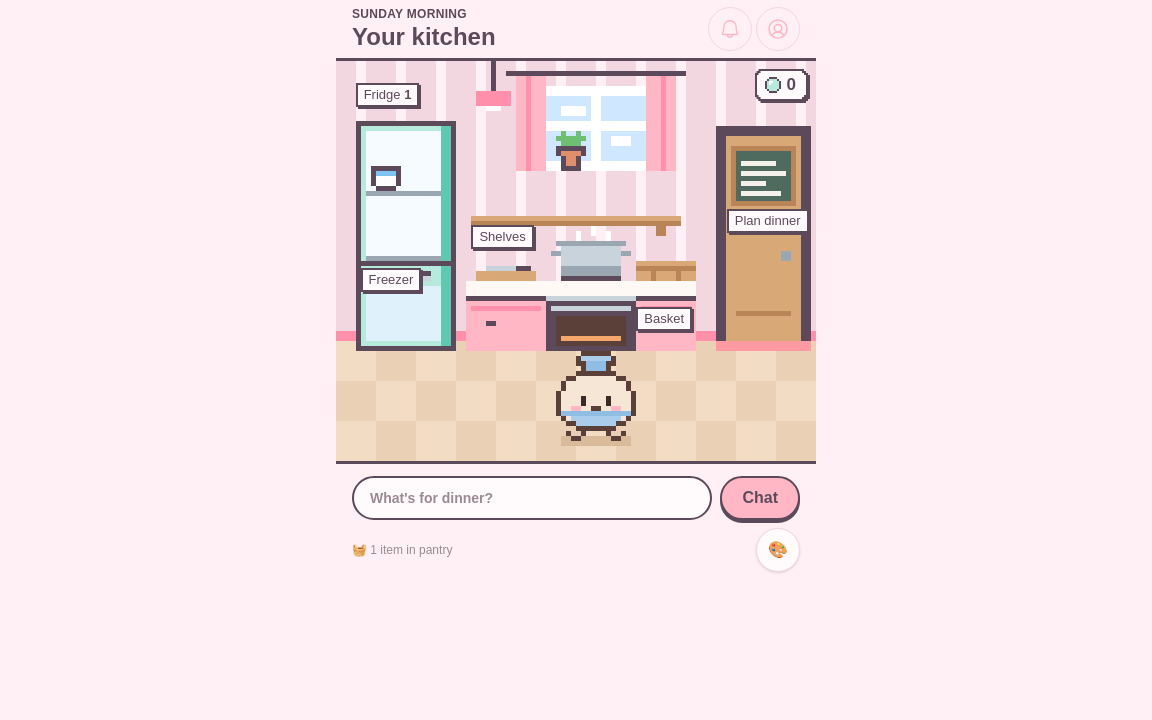
Test case: with nothing pending › there is no door to tap, and a place opens its storage sheet as before
Click the button "Fridge 1" at (406, 174), box [356, 83, 456, 266]
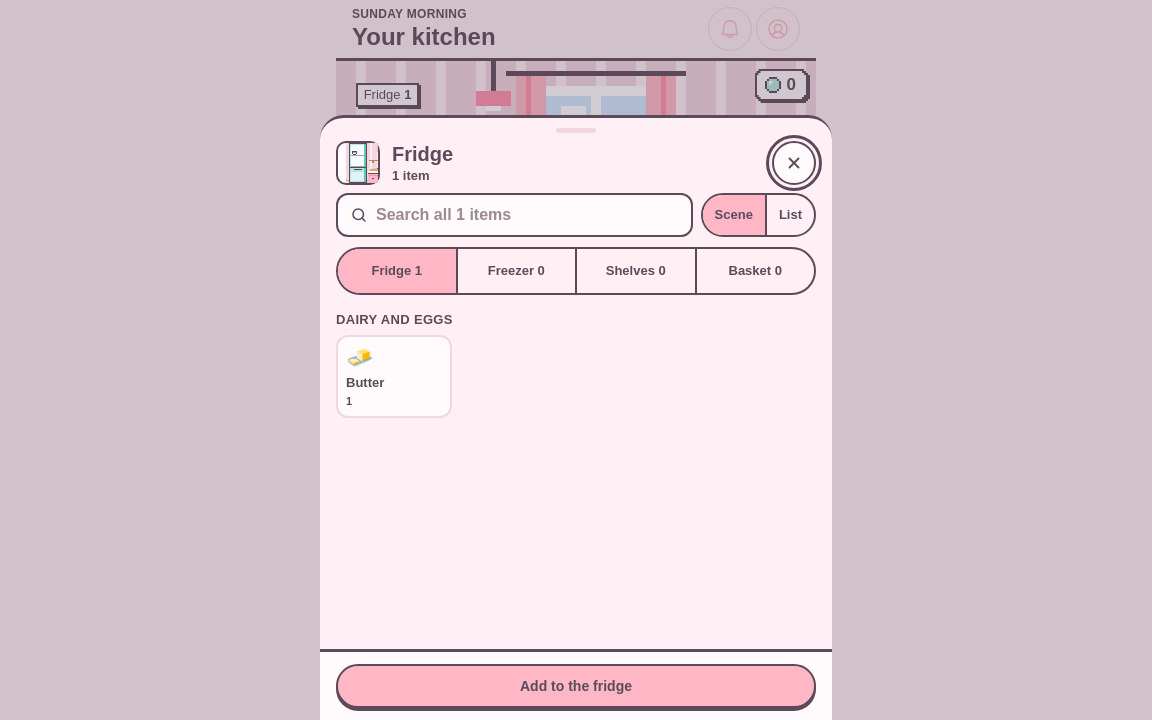
Now the element named "Storage" is shown, box [336, 247, 816, 295]
